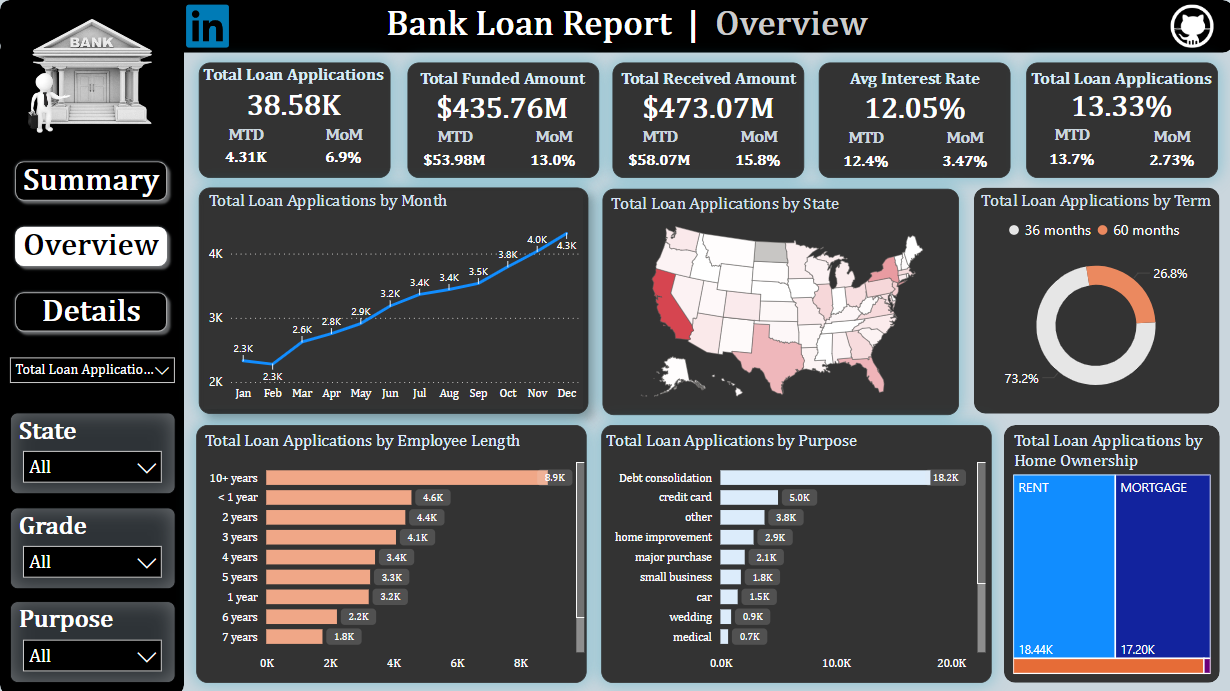

Layout of this report page (visuals, bound fields, positions):
{"tool":"powerbi","page":{"name":"Overview","canvas":[1280,720],"ordinal":1},"visuals":[{"type":"group","id":"g1","title":"Group 1","box":[0,0,1280.5,721.2],"z":0},{"type":"shape","box":[0,0,1280.5,54.9],"z":0,"group":"g1"},{"type":"shape","box":[206.2,194.9,405,235],"z":0,"group":"g10"},{"type":"shape","box":[0,41.2,191.2,680],"z":1000,"group":"g1"},{"type":"pageNavigator","box":[9.7,160.5,171.3,190.6],"z":1000},{"type":"shape","box":[625.4,195.5,370.2,235.3],"z":1000,"group":"g8"},{"type":"shape","box":[203.9,441.6,405.4,267.8],"z":1000,"group":"g11"},{"type":"textbox","box":[375,0,551.4,55.6],"z":2000},{"type":"shape","box":[206.2,65,199.3,119.8],"z":2000,"group":"g2"},{"type":"group","id":"g2","title":"Group 3","box":[203.8,65,201.8,119.8],"z":3000},{"type":"shape","box":[422.4,65,199.3,119.8],"z":3000,"group":"g3"},{"type":"group","id":"g3","title":"Group 4","box":[420.2,65,201.8,120.3],"z":4000},{"type":"shape","box":[636.7,65,199.3,119.8],"z":4000,"group":"g4"},{"type":"group","id":"g4","title":"Group 5","box":[636.7,65,199.3,120.1],"z":5000},{"type":"shape","box":[851,65,199.3,119.8],"z":5000,"group":"g5"},{"type":"group","id":"g5","title":"Group 6","box":[850.7,65,199.6,120.1],"z":6000},{"type":"shape","box":[1065.7,65,199.3,119.8],"z":6000,"group":"g6"},{"type":"group","id":"g6","title":"Group 7","box":[1065,65,200,120],"z":7000},{"type":"card","title":"Total Loan Applications","fields":{"Values":["All Measures.Total Loan Applications"]},"box":[203.8,66.6,201.8,62.7],"z":7000,"group":"g14"},{"type":"card","title":"Total Funded Amount","fields":{"Values":["All Measures.Total Funded Amount"]},"box":[420.2,70,201.8,62.7],"z":8000,"group":"g3"},{"type":"slicer","title":"State","fields":{"Values":["financial_loan.address_state"]},"box":[10,428,171.7,84.6],"z":8000},{"type":"card","title":"Total Received Amount","fields":{"Values":["All Measures.Total Received Amount"]},"box":[636.7,69.7,199.3,62.7],"z":9000,"group":"g4"},{"type":"slicer","title":"Grade","fields":{"Values":["financial_loan.grade"]},"box":[10,527.5,171.7,84.6],"z":9000},{"type":"card","title":"Avg Interest Rate","fields":{"Values":["All Measures.Average Interest Loan"]},"box":[850.7,69.7,199.3,62.7],"z":10000,"group":"g5"},{"type":"slicer","title":"Purpose","fields":{"Values":["financial_loan.Good Vs Bad Loan"]},"box":[10,624.6,171.7,84.6],"z":10000},{"type":"card","title":"Total Loan Applications","fields":{"Values":["All Measures.Avg DTI(Depth To Income Ratio)"]},"box":[1065,70,200,57.5],"z":11000,"group":"g6"},{"type":"slicer","fields":{"Values":["Select Measure.Select Measure"]},"box":[0,360.8,191.6,49.8],"z":11000},{"type":"card","title":"MTD","fields":{"Values":["All Measures.MTD Loan Applications"]},"box":[206.1,130.5,97.2,52.7],"z":12000,"group":"g14"},{"type":"group","id":"g7","title":"Group 8","box":[206.2,194.9,405,235],"z":12000},{"type":"shape","box":[1010.6,195.4,255.5,235],"z":12000,"group":"g9"},{"type":"card","title":"MTD","fields":{"Values":["All Measures.MTD Funded Amount"]},"box":[422.7,132.7,97.2,52.7],"z":13000,"group":"g3"},{"type":"group","id":"g8","title":"Group 9","box":[625.4,195.5,370.4,235.3],"z":13000},{"type":"donutChart","fields":{"Y":["All Measures.Total Loan Applications"],"Category":["financial_loan.term"]},"box":[1009.8,198,256.9,229.2],"z":13000,"group":"g9"},{"type":"shapeMap","fields":{"Value":["All Measures.Total Loan Applications"],"Category":["financial_loan.address_state"]},"box":[629.8,199.3,365.6,226.8],"z":13000,"group":"g8"},{"type":"shape","box":[1042.5,441.6,224.4,267.9],"z":13000,"group":"g13"},{"type":"lineChart","fields":{"Y":["All Measures.Total Loan Applications"],"Category":["Date Table.Month"]},"box":[211.5,199,394.4,226.4],"z":13001,"group":"g10"},{"type":"card","title":"MTD","fields":{"Values":["All Measures.MTD Received Amount"]},"box":[636.7,132.4,97.2,52.7],"z":14000,"group":"g4"},{"type":"group","id":"g9","title":"Group 10","box":[1009.8,195.4,257,235.3],"z":14000},{"type":"group","id":"g10","title":"Group 11","box":[206.2,194.9,405,235],"z":14002,"group":"g7"},{"type":"image","box":[0,8.4,190.6,141.2],"z":15000},{"type":"card","title":"MTD","fields":{"Values":["All Measures.MTD Avg Int Rate"]},"box":[850.7,133.7,97.2,51.4],"z":15000,"group":"g5"},{"type":"card","title":"MTD","fields":{"Values":["All Measures.MTD Avg DTI"]},"box":[1065,130,97.5,55],"z":16000,"group":"g6"},{"type":"group","id":"g11","title":"Group 12","box":[203.9,441.6,407.8,267.8],"z":16000},{"type":"shape","box":[624.4,441.6,405.4,267.8],"z":16000,"group":"g12"},{"type":"card","title":"MoM","fields":{"Values":["All Measures.MoM Applications"]},"box":[308.2,130.5,97.2,51.4],"z":17000,"group":"g14"},{"type":"group","id":"g12","title":"Group 13","box":[624.4,441.6,405.4,267.9],"z":17000},{"type":"clusteredBarChart","fields":{"Y":["All Measures.Total Loan Applications"],"Category":["financial_loan.emp_length"]},"box":[207.5,446.4,404.2,258.2],"z":17000,"group":"g11"},{"type":"card","title":"MoM","fields":{"Values":["All Measures.MoM Funded Amount"]},"box":[524.8,132.7,97.2,52.7],"z":18000,"group":"g3"},{"type":"group","id":"g13","title":"Group 14","box":[1042.5,441.6,224.4,267.9],"z":18000},{"type":"clusteredBarChart","fields":{"Y":["All Measures.Total Loan Applications"],"Category":["financial_loan.purpose"]},"box":[624.4,446.4,404.2,258.2],"z":18000,"group":"g12"},{"type":"image","box":[181,0,76,54.3],"z":19000},{"type":"card","title":"MoM","fields":{"Values":["All Measures.MoM Received Amount"]},"box":[738.8,132.4,97.2,52.7],"z":19000,"group":"g4"},{"type":"treemap","fields":{"Values":["All Measures.Total Loan Applications"],"Group":["financial_loan.home_ownership"]},"box":[1047.3,446.4,214.8,258.2],"z":19000,"group":"g13"},{"type":"image","box":[1195.5,0,84.5,54.3],"z":20000},{"type":"card","title":"MoM","fields":{"Values":["All Measures.MoM Avg Int Rate"]},"box":[952.8,133.7,97.2,51.4],"z":20000,"group":"g5"},{"type":"card","title":"MoM","fields":{"Values":["All Measures.MoM Avg DTL"]},"box":[1168.8,132.5,96.2,52.5],"z":21000,"group":"g6"},{"type":"group","id":"g14","title":"Group 2","box":[203.8,66.6,201.8,116.6],"z":21001,"group":"g2"}]}

Visuals, with their boxes in screenshot pixels (x1, y1, x2, y2), scaled from the page's 1280x720 canvas onto the 1230x691 screenshot:
"Group 1" group: box=[0, 0, 1229, 690]
shape: box=[0, 0, 1229, 53]
shape: box=[198, 187, 587, 413]
shape: box=[0, 40, 184, 690]
pageNavigator: box=[9, 154, 174, 337]
shape: box=[601, 188, 957, 413]
shape: box=[196, 424, 585, 681]
textbox: box=[360, 0, 890, 53]
shape: box=[198, 62, 390, 177]
"Group 3" group: box=[196, 62, 390, 177]
shape: box=[406, 62, 597, 177]
"Group 4" group: box=[404, 62, 598, 178]
shape: box=[612, 62, 803, 177]
"Group 5" group: box=[612, 62, 803, 178]
shape: box=[818, 62, 1009, 177]
"Group 6" group: box=[817, 62, 1009, 178]
shape: box=[1024, 62, 1216, 177]
"Group 7" group: box=[1023, 62, 1216, 178]
"Total Loan Applications" card: box=[196, 64, 390, 124]
"Total Funded Amount" card: box=[404, 67, 598, 127]
"State" slicer: box=[10, 411, 175, 492]
"Total Received Amount" card: box=[612, 67, 803, 127]
"Grade" slicer: box=[10, 506, 175, 587]
"Avg Interest Rate" card: box=[817, 67, 1009, 127]
"Purpose" slicer: box=[10, 599, 175, 681]
"Total Loan Applications" card: box=[1023, 67, 1216, 122]
slicer - Select Measure.Select Measure: box=[0, 346, 184, 394]
"MTD" card: box=[198, 125, 291, 176]
"Group 8" group: box=[198, 187, 587, 413]
shape: box=[971, 188, 1217, 413]
"MTD" card: box=[406, 127, 500, 178]
"Group 9" group: box=[601, 188, 957, 413]
donutChart - All Measures.Total Loan Applications x financial_loan.term: box=[970, 190, 1217, 410]
shapeMap - All Measures.Total Loan Applications x financial_loan.address_state: box=[605, 191, 957, 409]
shape: box=[1002, 424, 1217, 681]
lineChart - All Measures.Total Loan Applications x Date Table.Month: box=[203, 191, 582, 408]
"MTD" card: box=[612, 127, 705, 178]
"Group 10" group: box=[970, 188, 1217, 413]
"Group 11" group: box=[198, 187, 587, 413]
image: box=[0, 8, 183, 144]
"MTD" card: box=[817, 128, 911, 178]
"MTD" card: box=[1023, 125, 1117, 178]
"Group 12" group: box=[196, 424, 588, 681]
shape: box=[600, 424, 990, 681]
"MoM" card: box=[296, 125, 390, 175]
"Group 13" group: box=[600, 424, 990, 681]
clusteredBarChart - All Measures.Total Loan Applications x financial_loan.emp_length: box=[199, 428, 588, 676]
"MoM" card: box=[504, 127, 598, 178]
"Group 14" group: box=[1002, 424, 1217, 681]
clusteredBarChart - All Measures.Total Loan Applications x financial_loan.purpose: box=[600, 428, 988, 676]
image: box=[174, 0, 247, 52]
"MoM" card: box=[710, 127, 803, 178]
treemap - All Measures.Total Loan Applications x financial_loan.home_ownership: box=[1006, 428, 1213, 676]
image: box=[1149, 0, 1229, 52]
"MoM" card: box=[916, 128, 1009, 178]
"MoM" card: box=[1123, 127, 1216, 178]
"Group 2" group: box=[196, 64, 390, 176]
